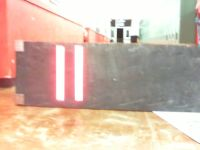switch: (55, 44, 65, 102), (74, 44, 84, 102)
